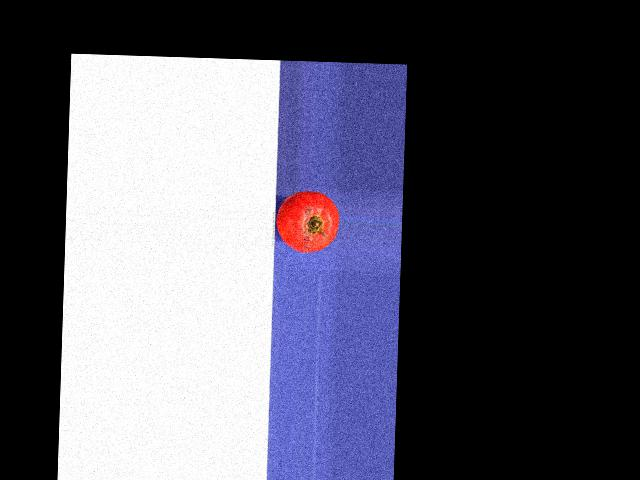tomato: (276, 189, 339, 253)
